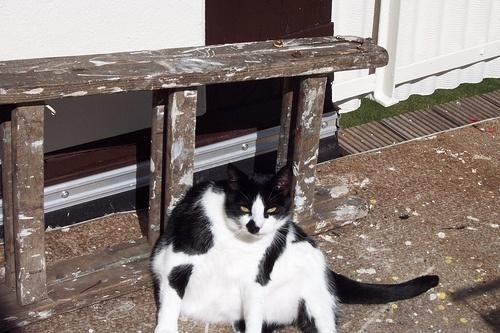cat: (148, 162, 440, 333)
